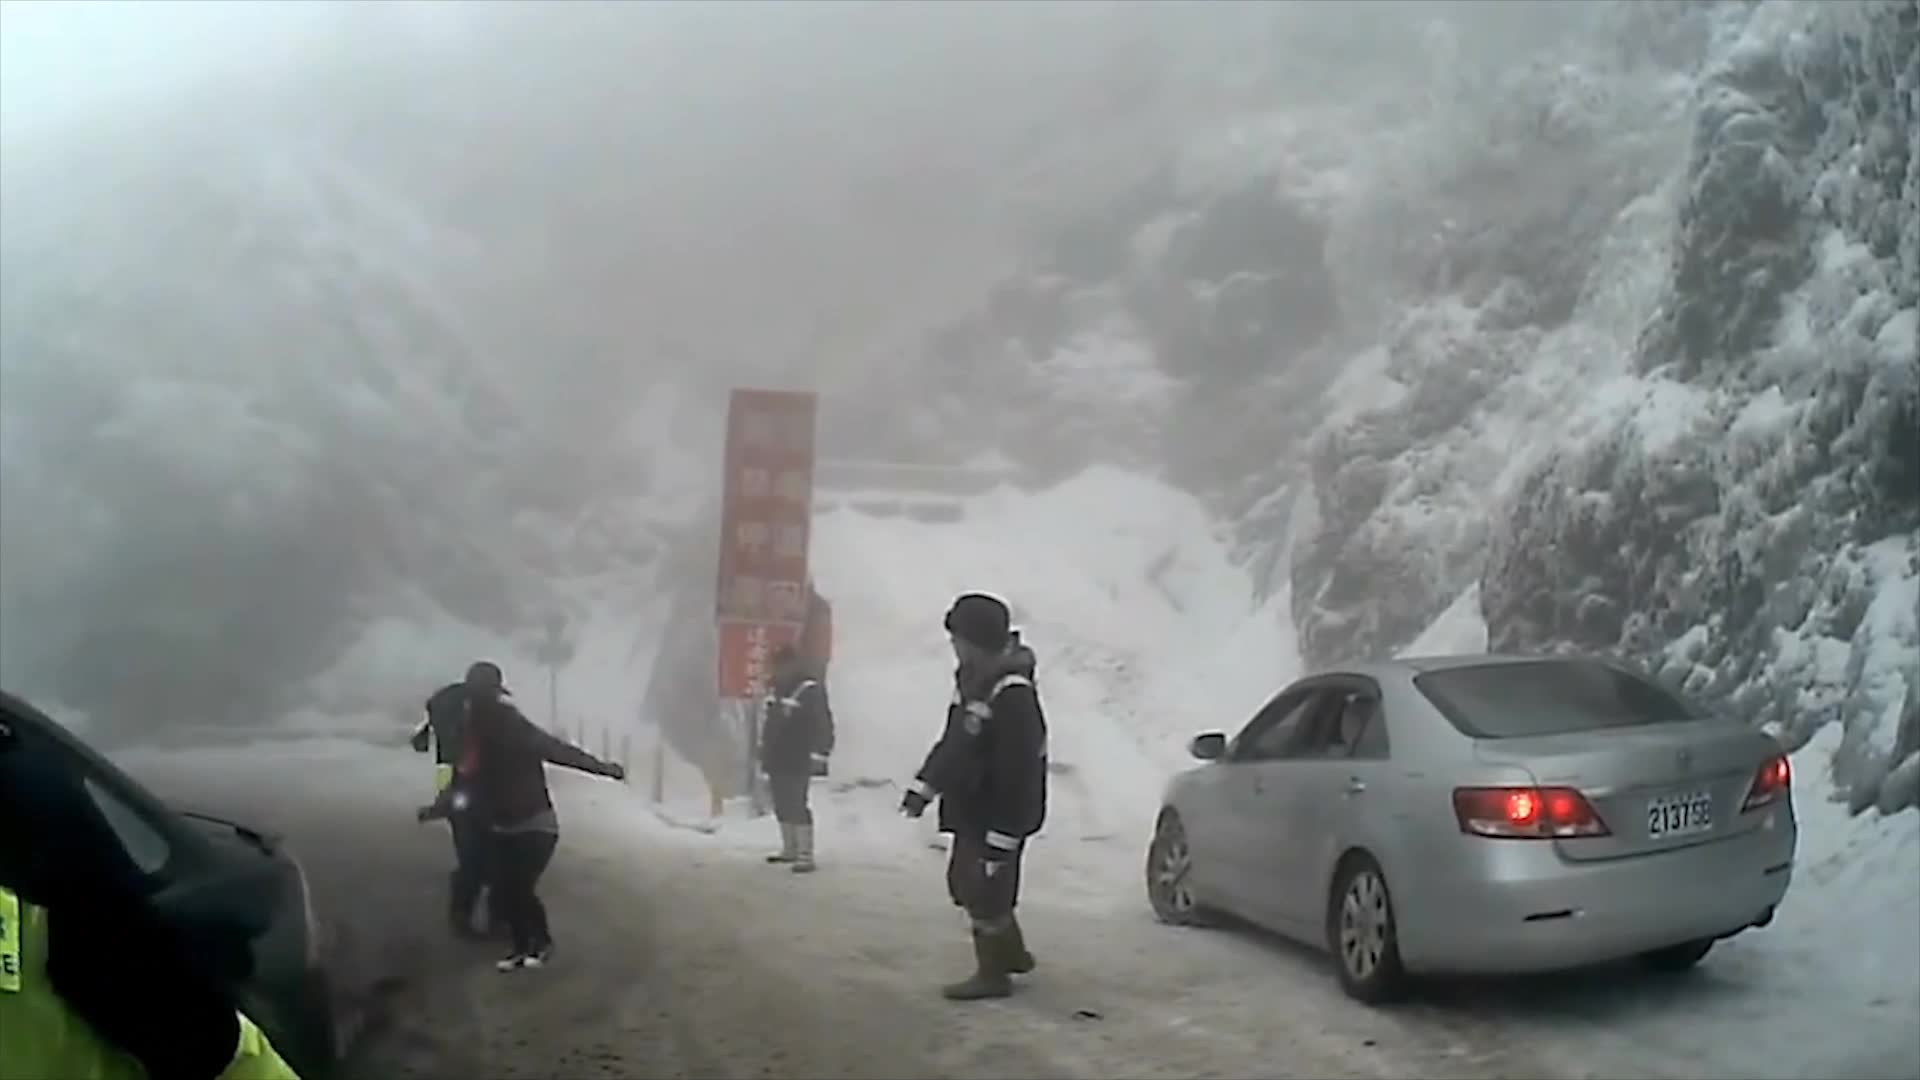pedestrian: (1, 677, 290, 1075), (897, 586, 1053, 1005), (417, 681, 624, 974), (760, 635, 837, 875), (775, 566, 837, 744)
vehicle: (1140, 650, 1797, 1003), (0, 691, 339, 1079)
